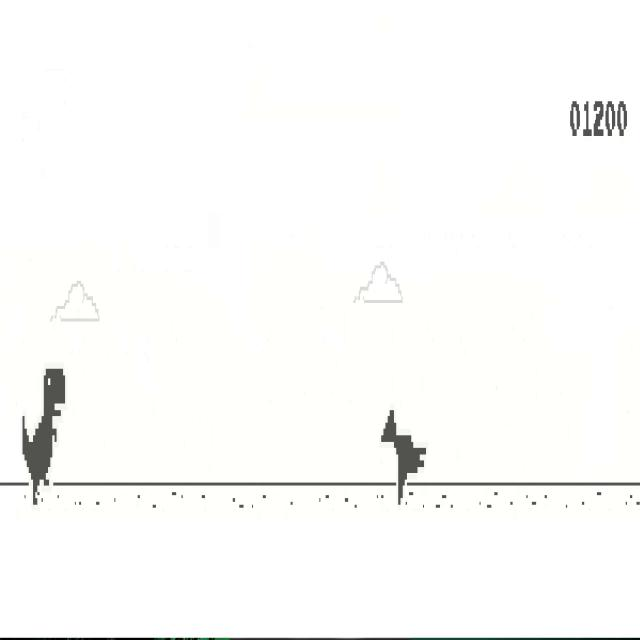dino: (21, 368, 66, 507)
ptero: (381, 408, 426, 506)
